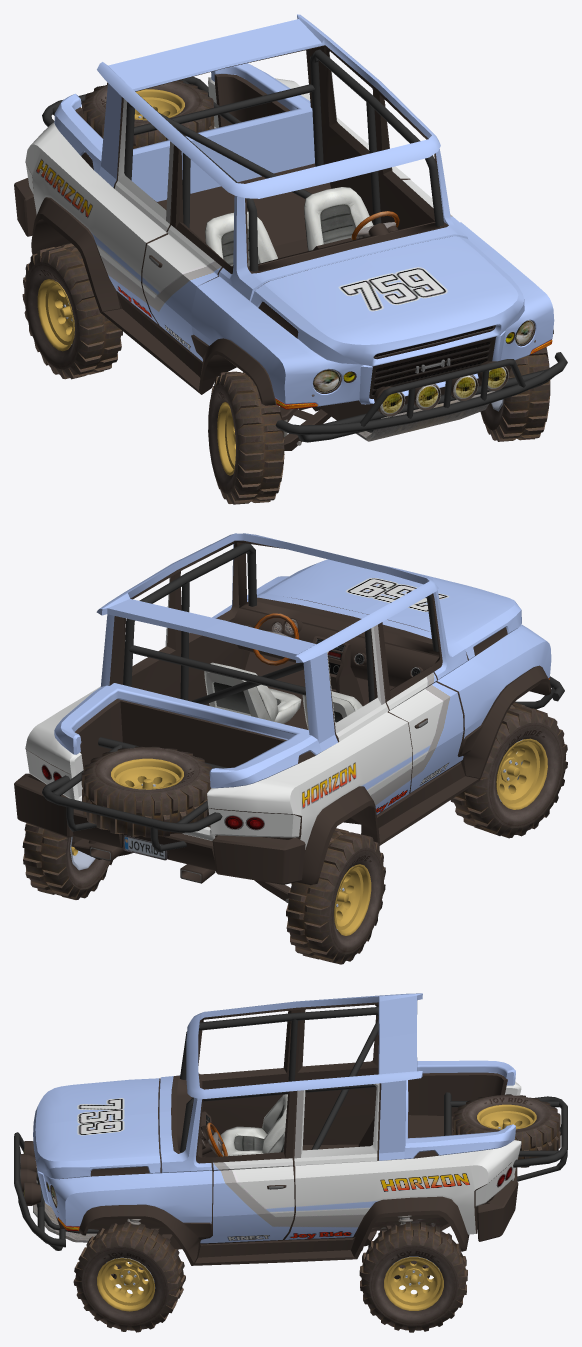
Rendered from car3.glb.
The picture shows the model from 3 angles, top to bottom: view 1: azimuth 30°, elevation 25°; view 2: azimuth 150°, elevation 25°; view 3: azimuth 270°, elevation 25°; orthographic projection. The views are drawn at different scales.
Parts seen in each view (by area): view 1: node_id120, node_id128, node_id118, node_id43, node_id113, node_id106, node_id36, node_id130, node_id92, node_id102, node_id104, node_id84 (+10 smaller); view 2: node_id120, node_id128, node_id118, node_id106, node_id84, node_id113, node_id115, node_id36, node_id109, node_id99, node_id111, node_id102 (+7 smaller); view 3: node_id120, node_id128, node_id92, node_id118, node_id99, node_id95, node_id88, node_id97, node_id90, node_id36, node_id115, node_id84 (+6 smaller).
Boxes of the visible parts, x1,y1,x2,y2 form: node_id120: (25, 14, 554, 406); node_id128: (14, 45, 553, 420); node_id118: (124, 49, 443, 271); node_id43: (275, 352, 567, 442); node_id113: (209, 371, 284, 504); node_id106: (22, 243, 122, 379); node_id36: (205, 187, 373, 266); node_id130: (369, 325, 496, 398); node_id92: (480, 347, 550, 441); node_id102: (24, 262, 79, 369); node_id104: (37, 279, 74, 351); node_id84: (82, 80, 214, 148); node_id120: (25, 533, 551, 849); node_id128: (14, 540, 550, 885); node_id118: (123, 543, 438, 704); node_id106: (286, 828, 385, 964); node_id84: (81, 746, 211, 837); node_id113: (450, 702, 567, 838); node_id115: (42, 737, 226, 852); node_id36: (204, 662, 362, 730); node_id109: (487, 722, 563, 828); node_id99: (22, 823, 112, 899); node_id111: (496, 738, 547, 809); node_id102: (329, 847, 383, 954); node_id120: (33, 993, 521, 1243); node_id128: (46, 1002, 518, 1265); node_id92: (73, 1222, 185, 1332); node_id118: (180, 1007, 387, 1187); node_id99: (359, 1221, 467, 1332); node_id95: (369, 1245, 458, 1325); node_id88: (81, 1246, 168, 1325); node_id97: (384, 1256, 443, 1310); node_id90: (97, 1257, 155, 1311); node_id36: (220, 1094, 287, 1156); node_id115: (444, 1092, 567, 1181); node_id84: (452, 1094, 560, 1167).
Bounding box in the file's own units: 0.4965 × 0.4303 × 0.8927.
51 materials, 51 textured.
